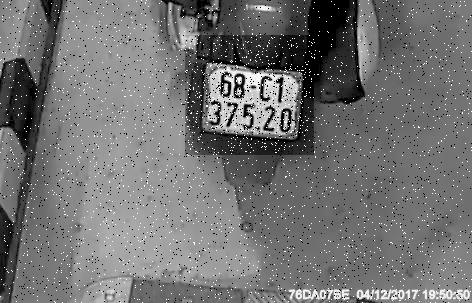License-plate: (187, 36, 317, 156)
